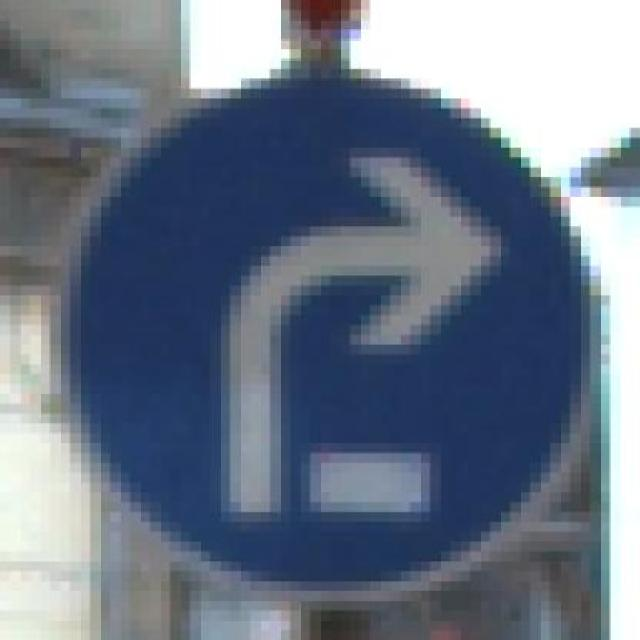Turn right ahead: (47, 68, 618, 610)
